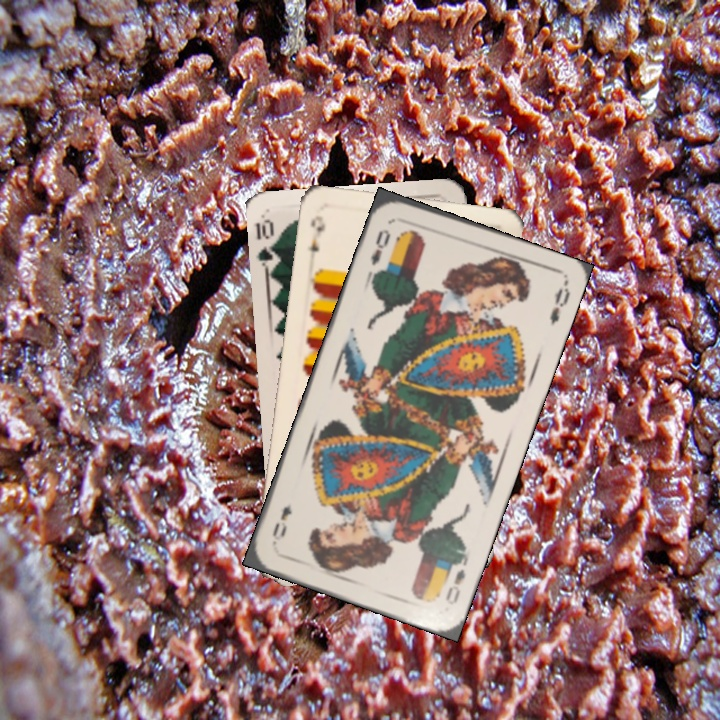E9: (306, 212, 328, 255)
EO: (440, 553, 471, 608), (366, 225, 393, 268)
G10: (251, 215, 281, 273)
